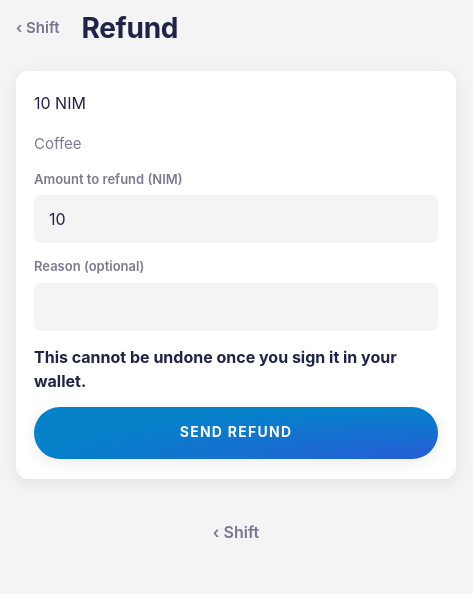
Test case: rejects a refund amount bigger than the original sale before sending anything
The image size is (473, 594).
Replace the text in the field labelled "Amount to refund (NIM)" with "20" at x=236, y=219, box [34,195,438,243]
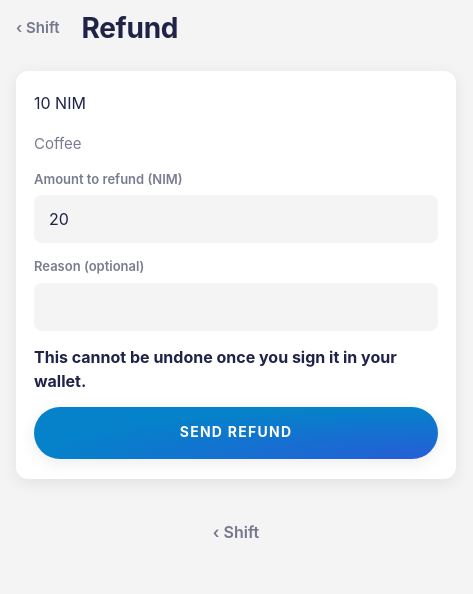
Click the button "Send refund".
click(236, 432)  # box [34,406,438,458]
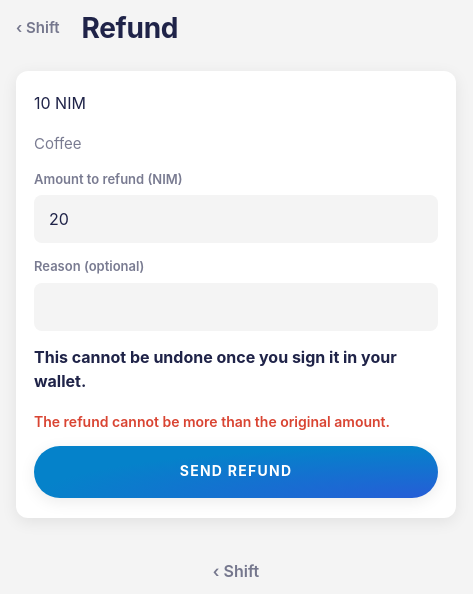
Expected: the message shows "cannot be more than", [34,412,390,430]
